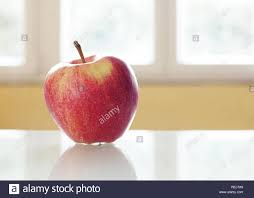apple: (40, 56, 139, 148)
